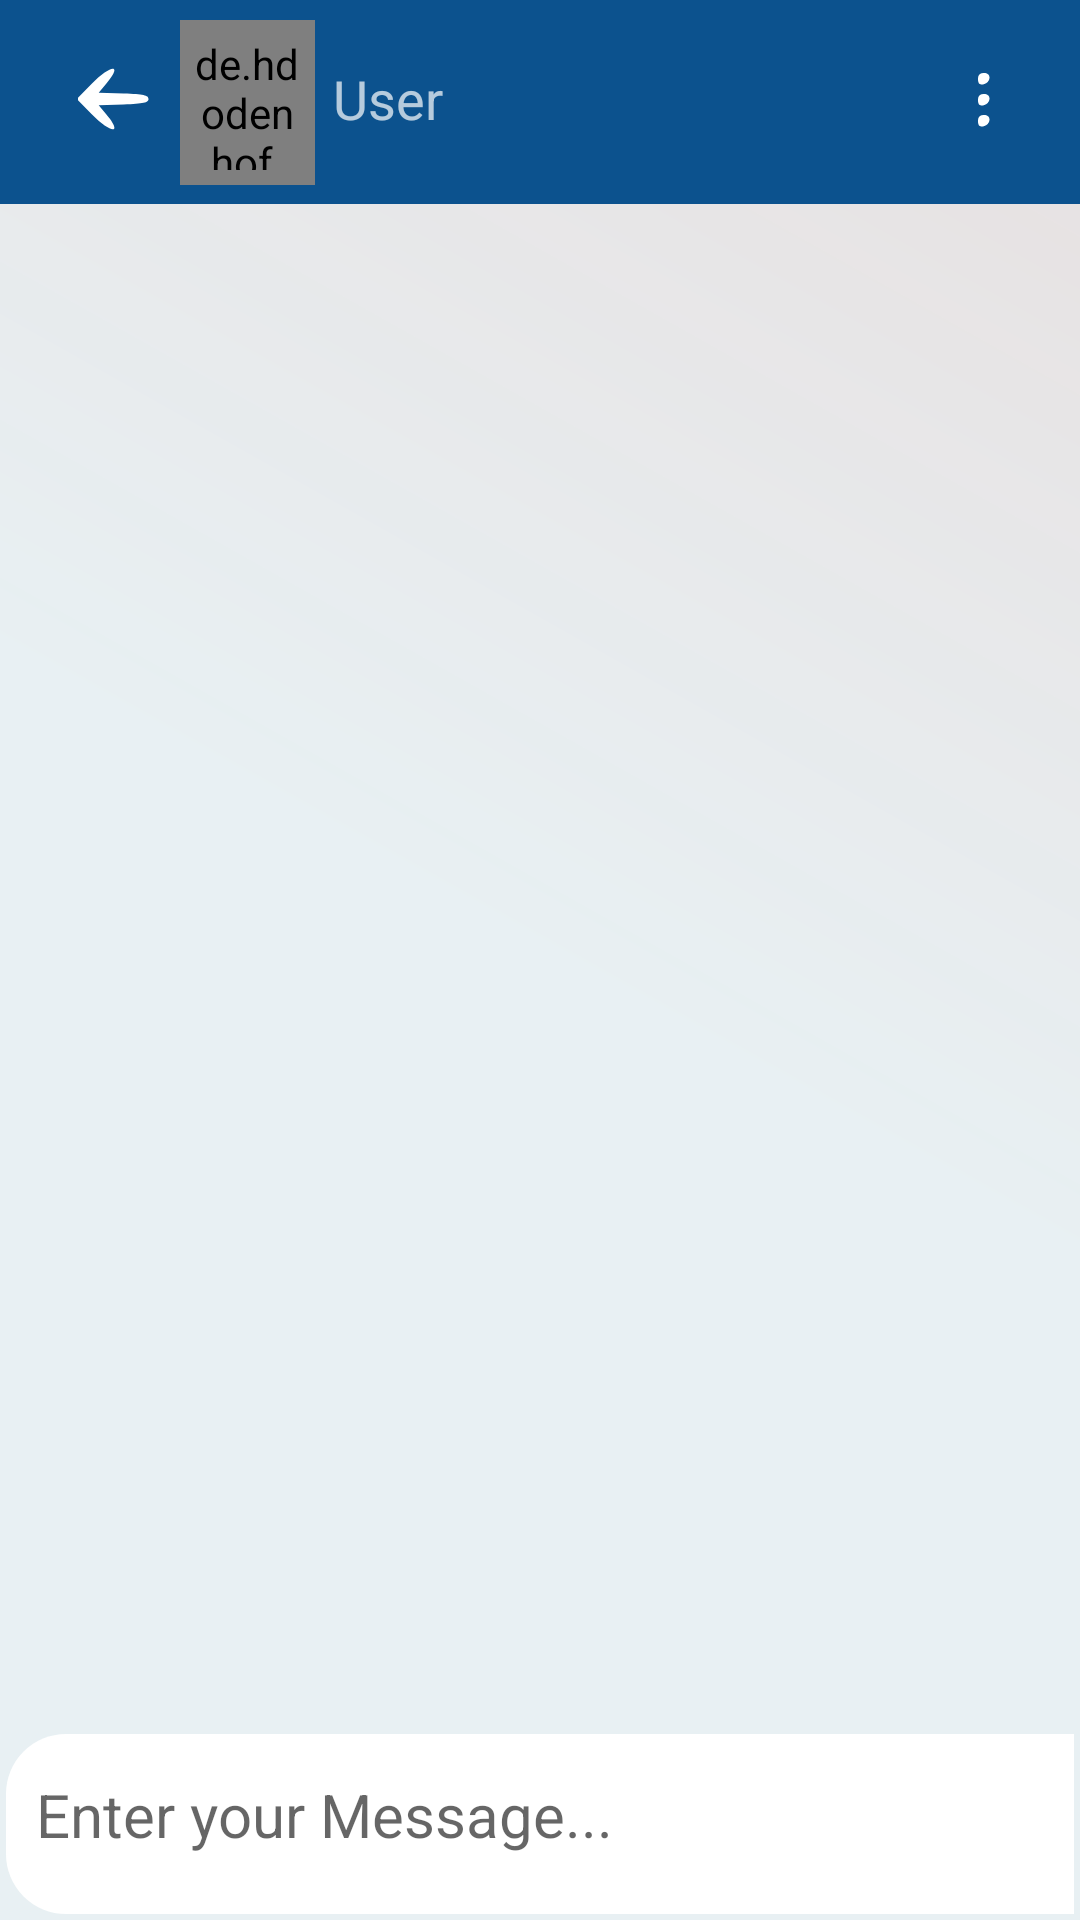

Icons on this 1080 x 1920 Android screen, each with the point to tap as (x=x, y=y):
arrow left: (x=113, y=99)
